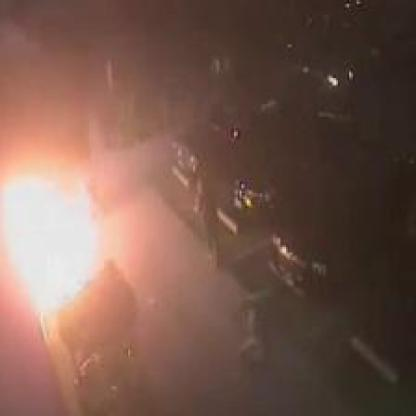fire: (2, 173, 113, 325)
